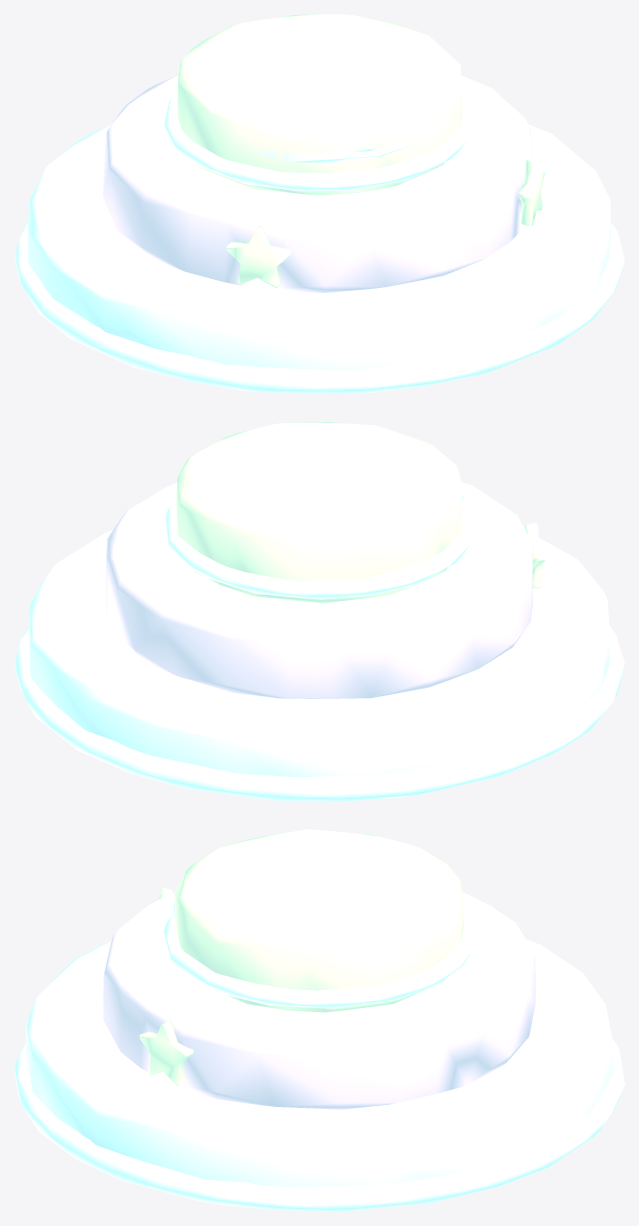
The model's file is props__TrophyPodium.glb.
3 renders of one model, top to bottom at view 1: azimuth 30°, elevation 25°; view 2: azimuth 150°, elevation 25°; view 3: azimuth 270°, elevation 25°, orthographic.
Visible parts, largest first — view 1: TrophyPodium; view 2: TrophyPodium; view 3: TrophyPodium.
Part boxes in pixels (bbox=[...]): TrophyPodium: bbox=[14, 14, 624, 393]; TrophyPodium: bbox=[14, 422, 624, 800]; TrophyPodium: bbox=[14, 829, 624, 1211].
Bounding box in the file's own units: 18.94 × 6.91 × 18.94.
